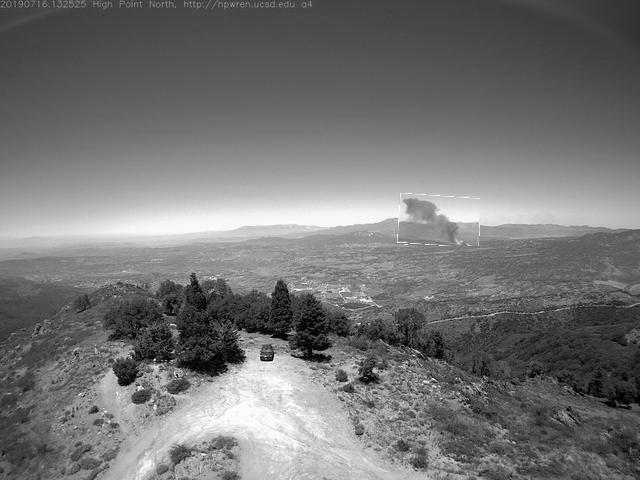smoke: (399, 196, 482, 247)
